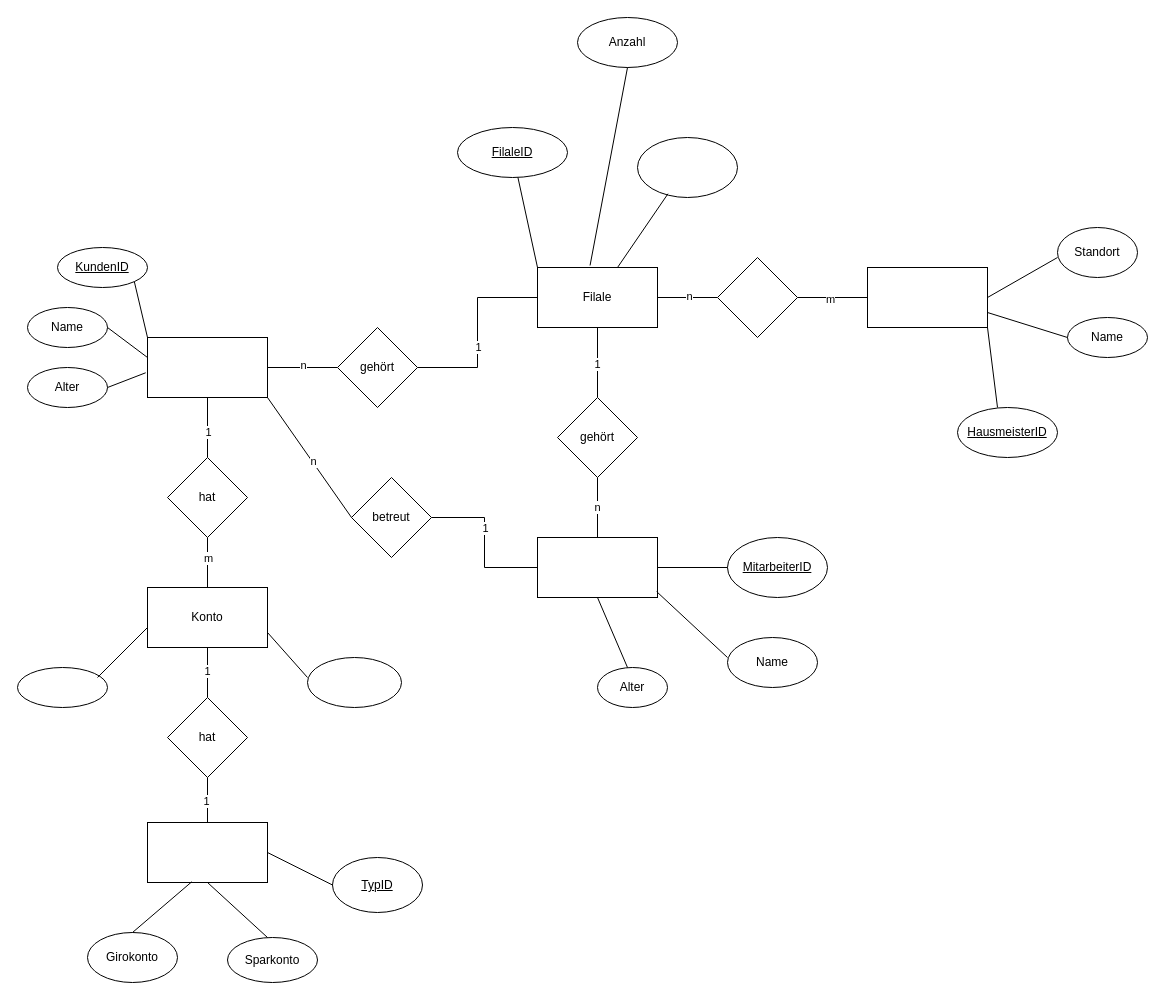
The diagram is 1165 pixels wide and 1000 high, and some of its shapes have lost their labels. The shapes that lost their labels are listed below. From the top down, each one's centre as x and y in pixels, then its label:
At (687,167): "Filalenname".
At (757,297): "zuständig".
At (927,297): "Hausmeister".
At (207,367): "Kunden".
At (597,567): "Mitarbeiter".
At (62,687): "KontoID".
At (354,682): "Kontonummer".
At (207,852): "Kontotyp".
